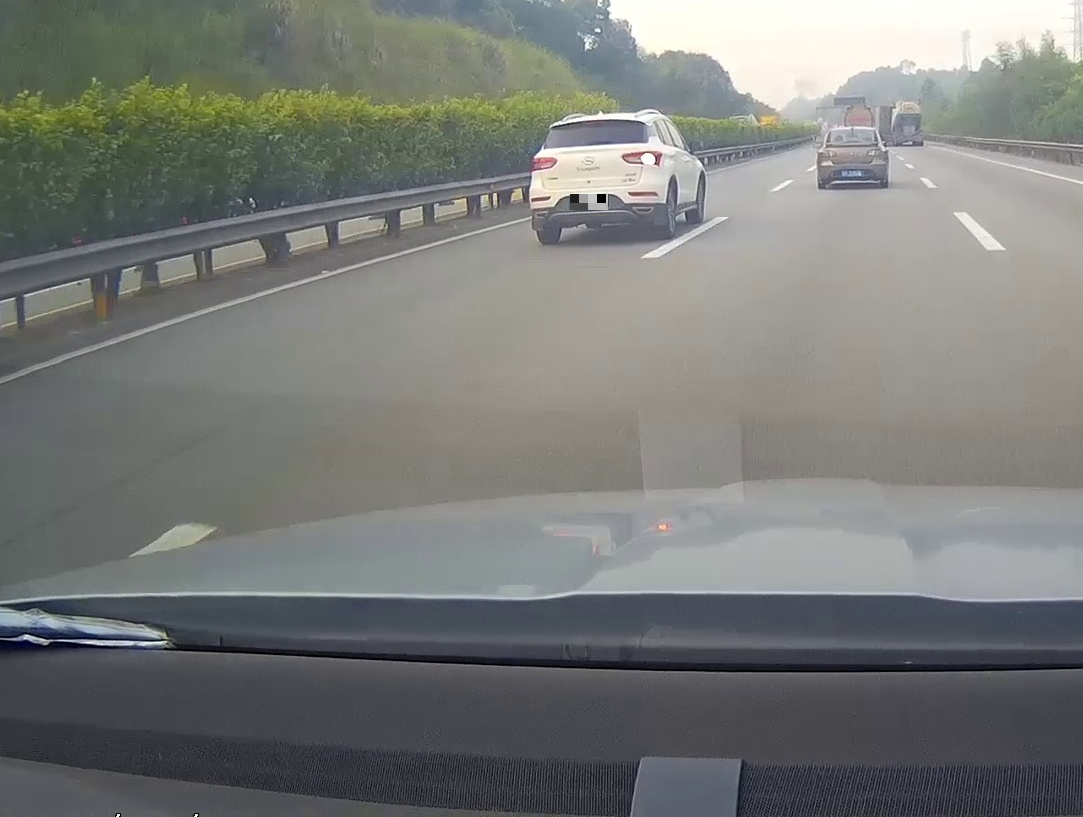L_light: (529, 157, 557, 172), (818, 149, 838, 156)
R_light: (622, 150, 662, 167), (867, 149, 885, 155)
T_light: (586, 120, 604, 124), (848, 129, 858, 131)
day-no: (817, 126, 888, 189)
day-right: (529, 108, 669, 244)
plate_1: (570, 194, 608, 210)
